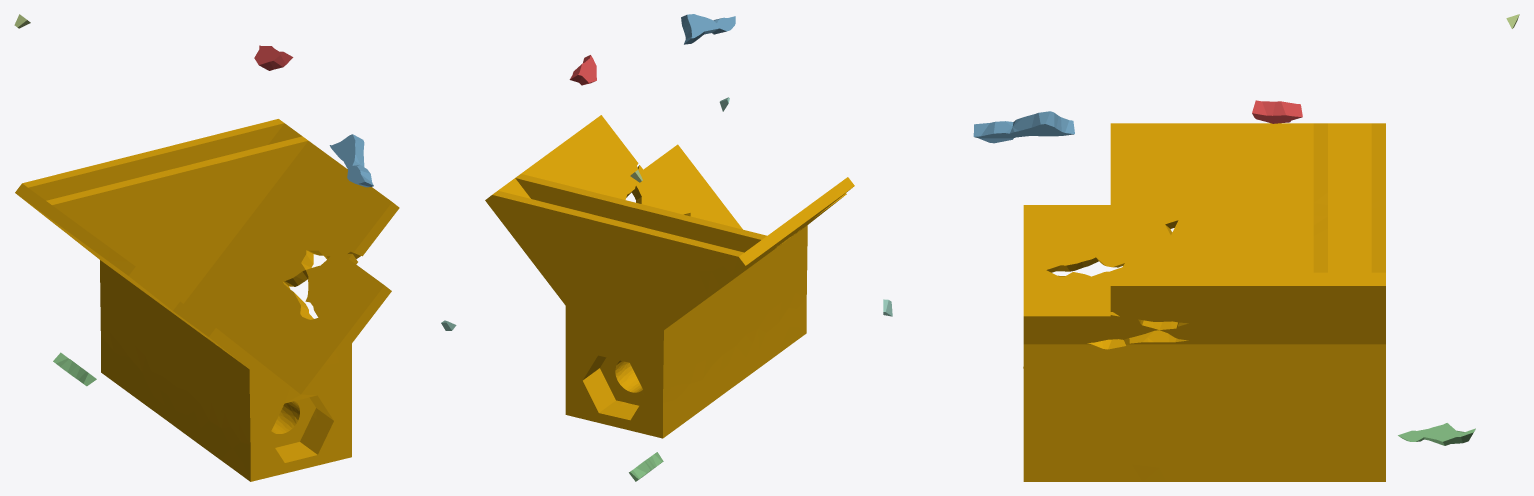
Rendered from fractured_30_6pcs_transformed.glb.
The picture shows the model from 3 angles, left to right: view 1: azimuth 30°, elevation 25°; view 2: azimuth 150°, elevation 25°; view 3: azimuth 270°, elevation 25°; orthographic projection. The views are drawn at different scales.
Visible parts, largest first — view 1: piece_0.obj, piece_2.obj, piece_1.obj, piece_3.obj; view 2: piece_0.obj, piece_2.obj, piece_1.obj, piece_3.obj; view 3: piece_0.obj, piece_2.obj, piece_3.obj, piece_1.obj.
Boxes of the visible parts, x1,y1,x2,y2 form: piece_0.obj: [15, 119, 399, 481]; piece_2.obj: [329, 134, 373, 187]; piece_1.obj: [254, 45, 293, 70]; piece_3.obj: [53, 352, 96, 386]; piece_0.obj: [485, 115, 854, 438]; piece_2.obj: [681, 14, 735, 44]; piece_1.obj: [569, 55, 596, 85]; piece_3.obj: [629, 452, 663, 481]; piece_0.obj: [1023, 123, 1385, 481]; piece_2.obj: [973, 111, 1074, 143]; piece_3.obj: [1398, 423, 1475, 445]; piece_1.obj: [1252, 100, 1302, 123].
Size of the model in its own units: 1 by 1.23 by 1.68.
